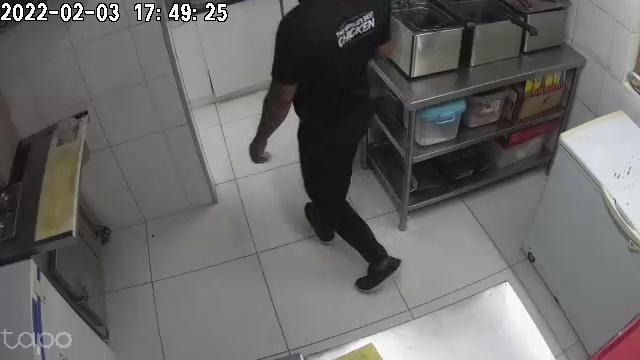no_gloves: (249, 130, 273, 165)
